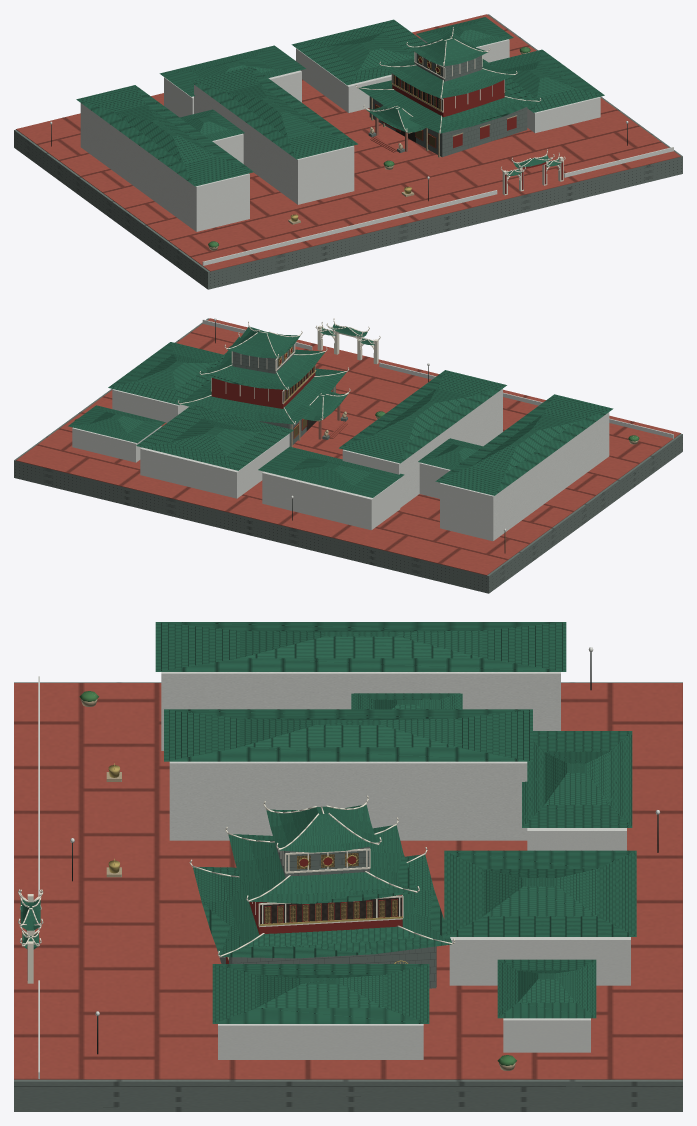
The model's file is ba-chua-xu-mid.glb.
3 renders of one model, top to bottom at view 1: azimuth 30°, elevation 25°; view 2: azimuth 150°, elevation 25°; view 3: azimuth 270°, elevation 25°, orthographic. The views are drawn at different scales.
Parts seen in each view (by area): view 1: ba-chua-xu-mid; view 2: ba-chua-xu-mid; view 3: ba-chua-xu-mid.
Part boxes in pixels (x1,y1,x2,y2): ba-chua-xu-mid: (14, 14, 682, 289); ba-chua-xu-mid: (14, 318, 682, 593); ba-chua-xu-mid: (14, 622, 682, 1111).
Size of the model in its own units: 113 by 23.81 by 80.
Materials: 1 (1 with a texture image).
